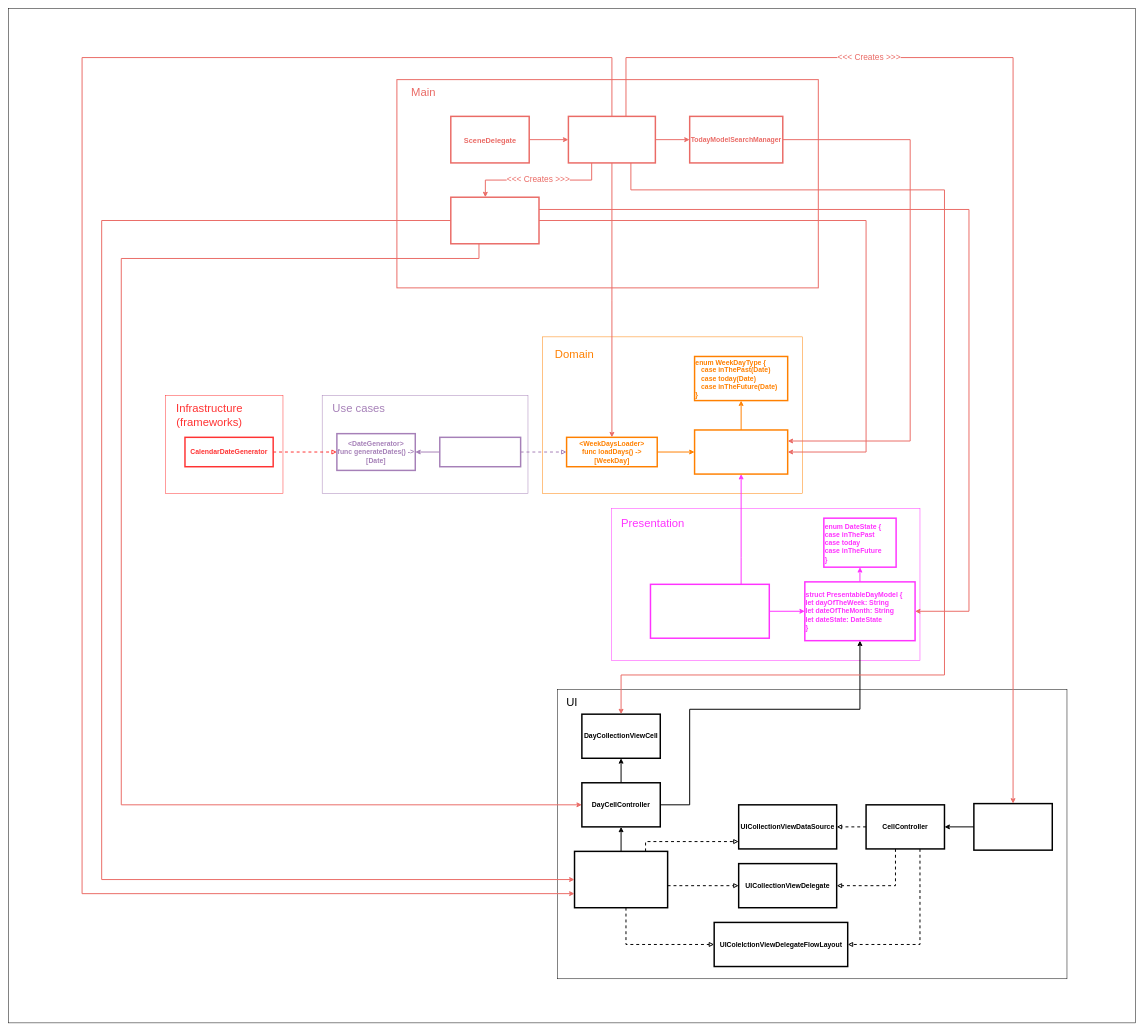
Image size: 1144x1031. Some labels were removed from this diagram. Here are the shapes that lost their labels. From the top down, the centre of each, then its label:
point 611,139: CalendarFactory
point 494,220: CalendarLoaderAdapter
point 480,451: CalendarDaysLoader
point 741,452: struct WeekDay { let type: WeekDayType }
point 709,611: DayViewModel static func map(weekDays: [WeekDay]) -> [PresentableDateModel]
point 1013,827: ViewController
point 621,879: SectionCellController
